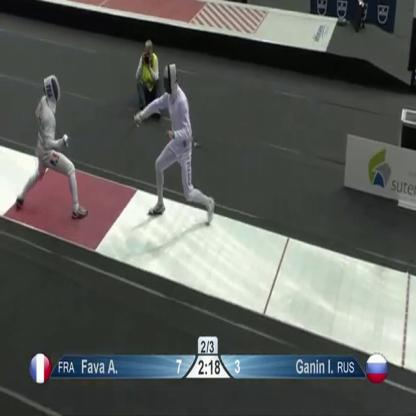crowd: (128, 32, 165, 128)
fencer: (133, 58, 219, 233), (12, 51, 89, 231)
